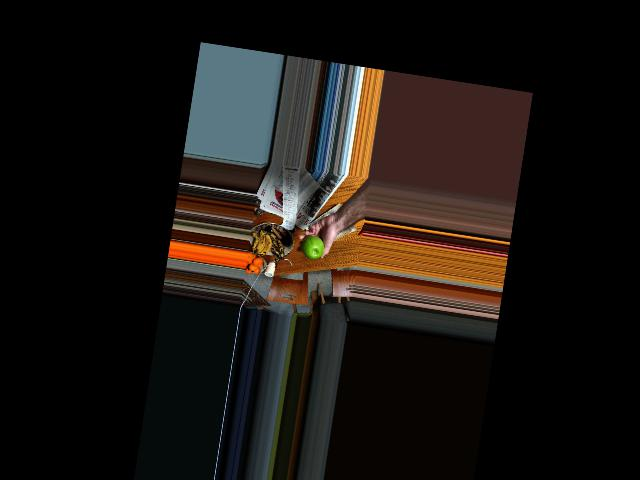apple: (298, 232, 326, 261)
